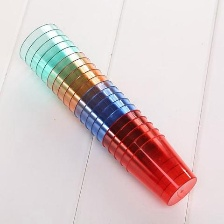glass: (17, 19, 200, 207)
